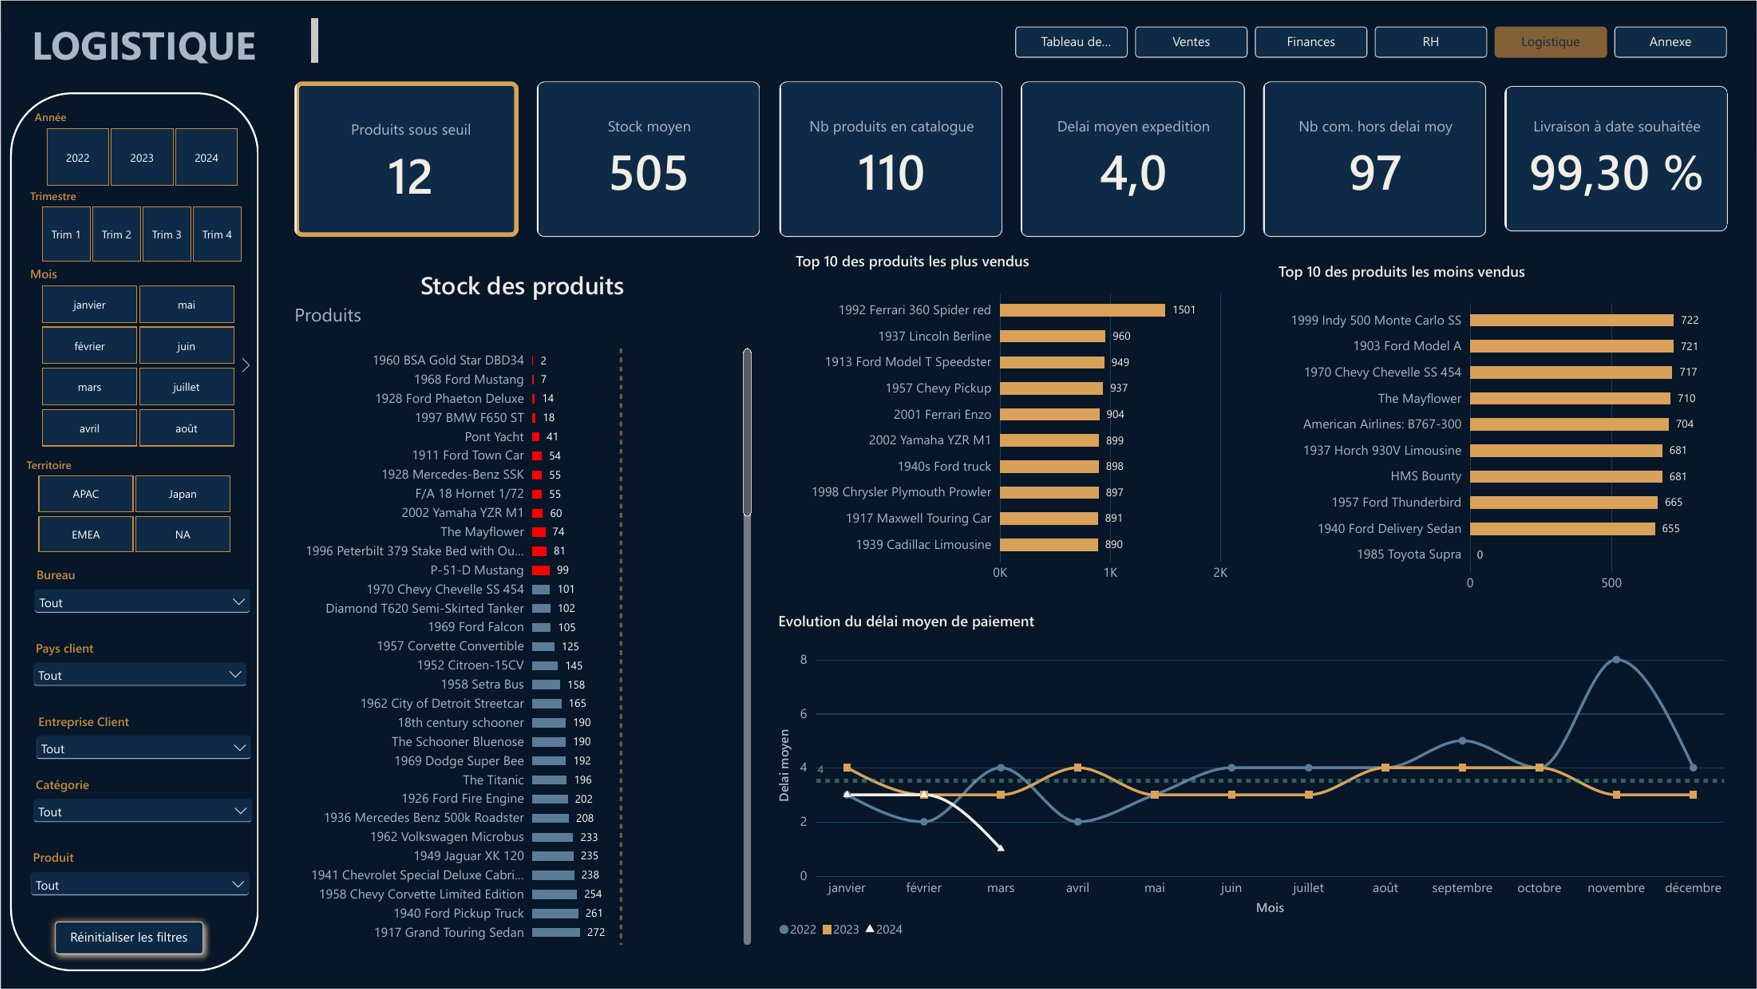

What the dashboard file says about the page in this screenshot:
{"tool":"powerbi","page":{"name":"Logistique","canvas":[1920,1080],"ordinal":4},"visuals":[{"type":"pageNavigator","box":[1098.6,20,800,50],"z":0},{"type":"textbox","box":[23.9,10.6,333.5,69.6],"z":1000},{"type":"clusteredBarChart","title":"Stock des produits","fields":{"Category":["dim_produit.productName"],"Y":["_Measure_Logistique.Stock total"]},"box":[310.8,284.5,519.4,755.7],"z":2000},{"type":"cardVisual","fields":{"Data":["_Measure_Logistique.Produits sous seuil"]},"box":[311.4,80,264.3,185.7],"z":3000},{"type":"cardVisual","fields":{"Data":["_Measure_Logistique.Nb produits"]},"box":[840.6,79.8,264.3,185.7],"z":4000},{"type":"cardVisual","fields":{"Data":["_Measure_Logistique.Stock moyen"]},"box":[575.9,79.8,264.3,185.7],"z":5000},{"type":"cardVisual","fields":{"Data":["_Measure_Logistique.Commandes hors delai"]},"box":[1370,79.8,264.3,185.7],"z":6000},{"type":"cardVisual","fields":{"Data":["_Measure_Logistique.Delai moyen"]},"box":[1105.3,79.8,264.3,185.7],"z":7000},{"type":"cardVisual","fields":{"Data":["_Measure_Logistique.Non retard"]},"box":[1634,84.6,264.1,175.1],"z":8000},{"type":"clusteredBarChart","title":"Top 10 des produits les plus vendus","fields":{"Category":["dim_produit.productName"],"Y":["_Measure_Ventes.Nb produit vendu"]},"box":[859.3,265.5,491.7,382.2],"z":9000},{"type":"clusteredBarChart","title":"Top 10 des produits les moins vendus","fields":{"Category":["dim_produit.productName"],"Y":["_Measure_Ventes.Nb produit vendu"]},"box":[1387.5,277.2,491.7,382.2],"z":10000},{"type":"lineChart","title":"Evolution du délai moyen de paiement","fields":{"Category":["dim_date.date.Variation.Hiérarchie de dates.Mois"],"Series":["dim_date.date.Variation.Hiérarchie de dates.Année"],"Y":["_Measure_Logistique.Delai moyen"]},"box":[840.4,659.5,1055.7,377.1],"z":11000},{"type":"shape","box":[0,91.9,291.7,976.7],"z":12000},{"type":"slicer","fields":{"Values":["dim_employee.officeTerritory"]},"box":[10.1,490.9,269.8,122.5],"z":12001},{"type":"slicer","fields":{"Values":["dim_date.date.Variation.Hiérarchie de dates.Année"]},"box":[19.3,111.4,268.9,100.4],"z":12003},{"type":"actionButton","title":"Réinitialiser les filtres","box":[39.6,990.1,200.1,68.7],"z":12004},{"type":"slicer","fields":{"Values":["dim_date.date.Variation.Hiérarchie de dates.Mois"]},"box":[13.8,281.8,269.8,215.5],"z":12006},{"type":"slicer","fields":{"Values":["dim_date.date.Variation.Hiérarchie de dates.Trimestre"]},"box":[14.2,196.6,277.9,98.3],"z":12011},{"type":"slicer","fields":{"Values":["dim_employee.officeCity"]},"box":[21.4,611.4,266.2,80.1],"z":12012},{"type":"slicer","fields":{"Values":["dim_customers.country"]},"box":[20,691.4,264.3,80.1],"z":12013},{"type":"slicer","fields":{"Values":["dim_produit.productLine"]},"box":[20,840,269.8,80.1],"z":12014},{"type":"slicer","fields":{"Values":["dim_produit.productName"]},"box":[17.1,920,269.8,80.1],"z":12015},{"type":"slicer","fields":{"Values":["dim_customers.CustomerName"]},"box":[22.9,771.4,266.2,83.8],"z":12016}]}

Visuals, with their boxes in screenshot pixels (x1, y1, x2, y2), scaled from the page's 1920x1080 canvas onto the 1757x989 screenshot:
pageNavigator: rect(1005, 18, 1737, 64)
textbox: rect(22, 10, 327, 73)
"Stock des produits" clusteredBarChart: rect(284, 261, 760, 953)
cardVisual - _Measure_Logistique.Produits sous seuil: rect(285, 73, 527, 243)
cardVisual - _Measure_Logistique.Nb produits: rect(769, 73, 1011, 243)
cardVisual - _Measure_Logistique.Stock moyen: rect(527, 73, 769, 243)
cardVisual - _Measure_Logistique.Commandes hors delai: rect(1254, 73, 1496, 243)
cardVisual - _Measure_Logistique.Delai moyen: rect(1011, 73, 1253, 243)
cardVisual - _Measure_Logistique.Non retard: rect(1495, 77, 1737, 238)
"Top 10 des produits les plus vendus" clusteredBarChart: rect(786, 243, 1236, 593)
"Top 10 des produits les moins vendus" clusteredBarChart: rect(1270, 254, 1720, 604)
"Evolution du délai moyen de paiement" lineChart: rect(769, 604, 1735, 949)
shape: rect(0, 84, 267, 979)
slicer - dim_employee.officeTerritory: rect(9, 450, 256, 562)
slicer - dim_date.date.Variation.Hiérarchie de dates.Année: rect(18, 102, 264, 194)
"Réinitialiser les filtres" actionButton: rect(36, 907, 219, 970)
slicer - dim_date.date.Variation.Hiérarchie de dates.Mois: rect(13, 258, 260, 455)
slicer - dim_date.date.Variation.Hiérarchie de dates.Trimestre: rect(13, 180, 267, 270)
slicer - dim_employee.officeCity: rect(20, 560, 263, 633)
slicer - dim_customers.country: rect(18, 633, 260, 706)
slicer - dim_produit.productLine: rect(18, 769, 265, 843)
slicer - dim_produit.productName: rect(16, 842, 263, 916)
slicer - dim_customers.CustomerName: rect(21, 706, 265, 783)
